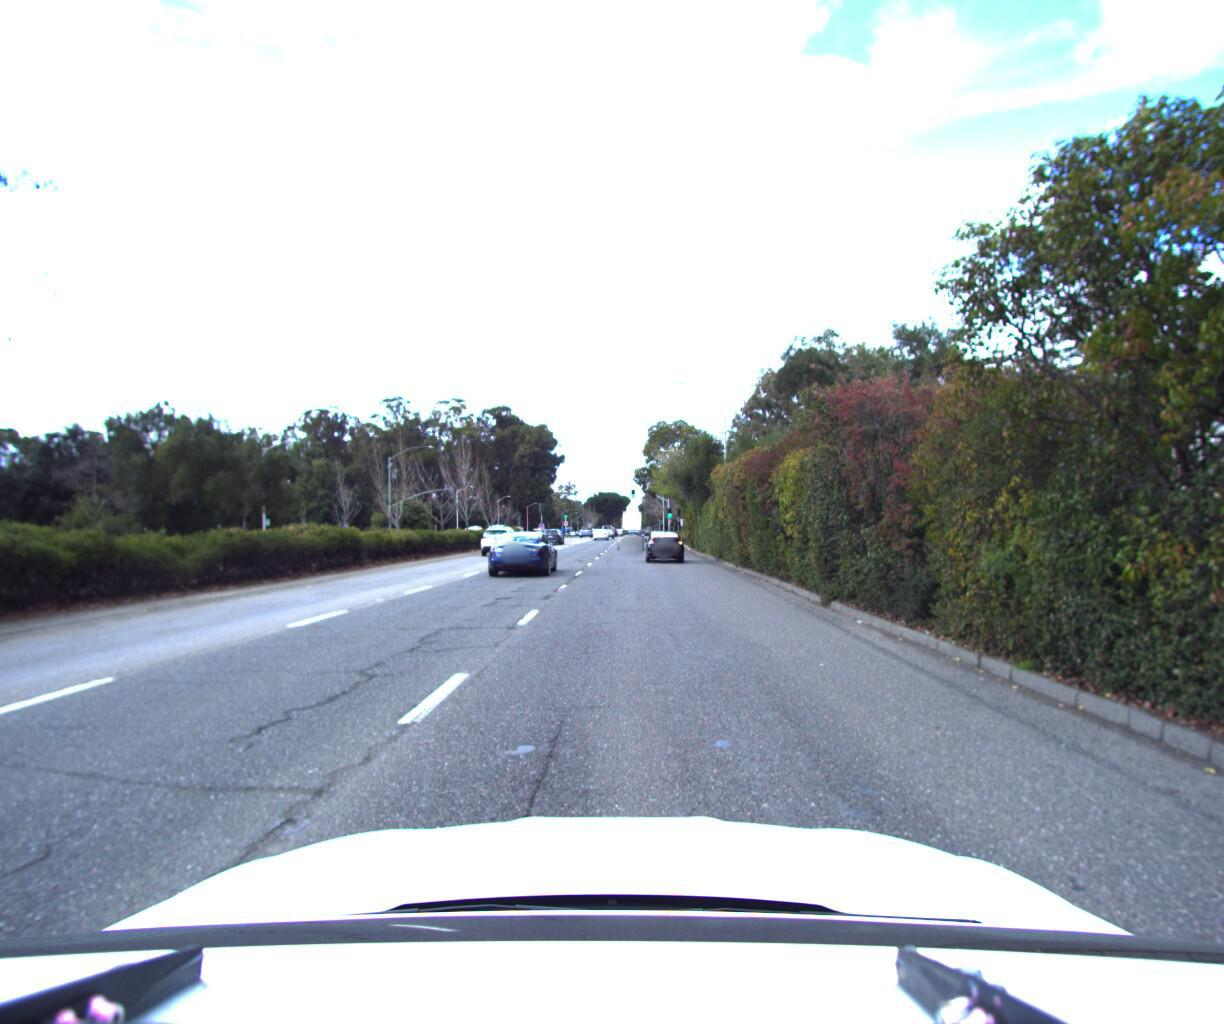car: (486, 530, 563, 578), (645, 525, 689, 562), (479, 523, 524, 557), (616, 527, 647, 553), (542, 525, 568, 546)
